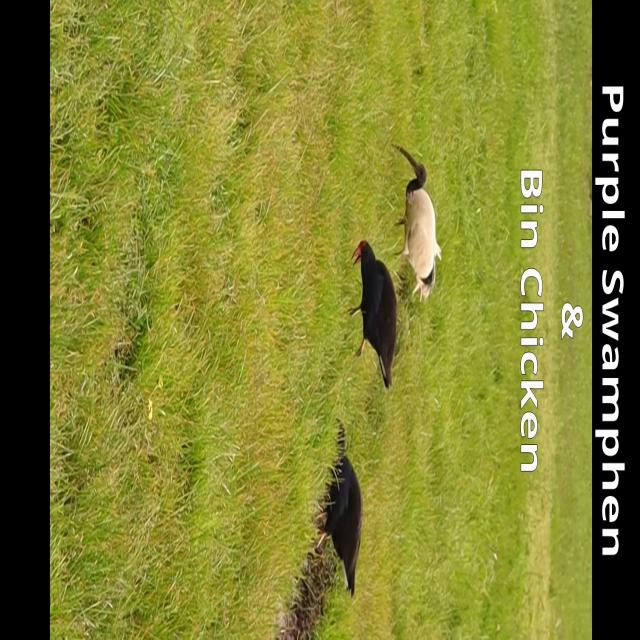Birds-Ibis: (389, 140, 443, 304)
Birds-Other: (307, 416, 363, 602), (344, 238, 399, 392)
